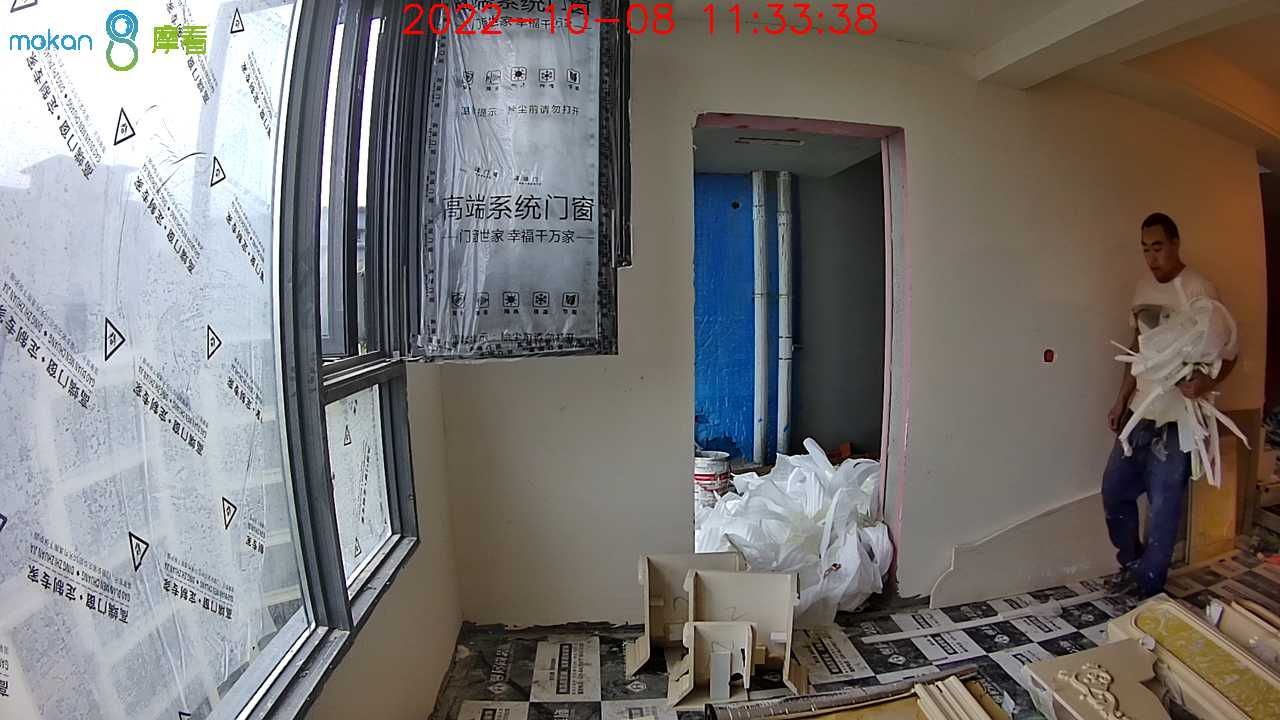people: (1103, 211, 1237, 604)
window: (1, 1, 398, 716)
